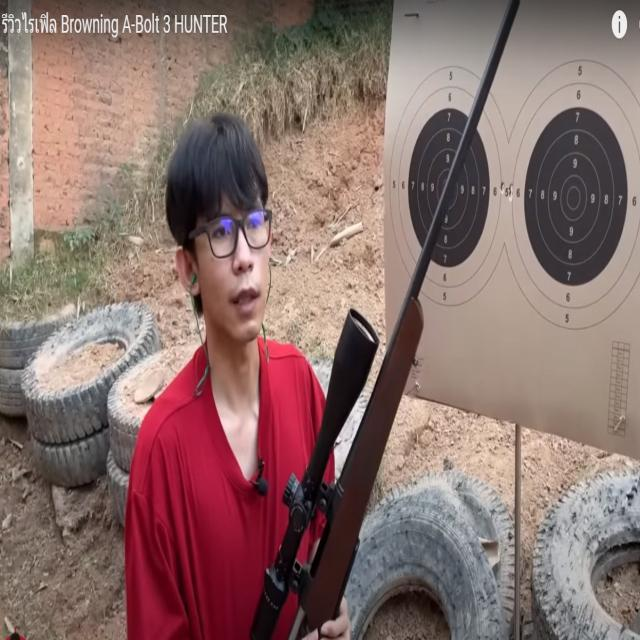rifle: (242, 3, 529, 637)
